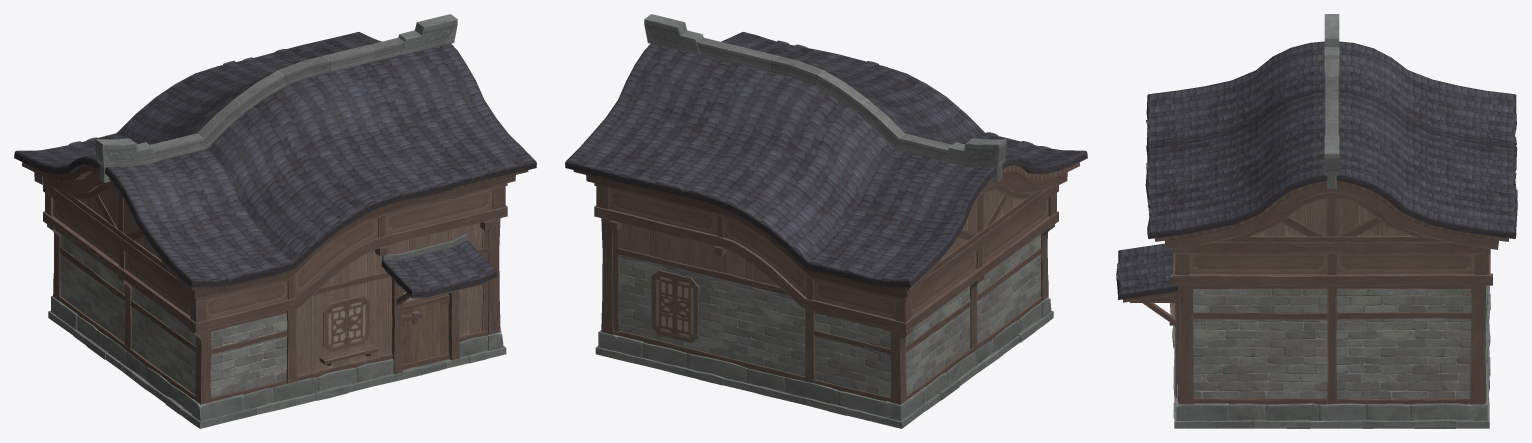
Rendered from Homeworld_Exterior_Cyg_Build_YlbHuishi_05_Lod0.fbx.
3 views of the same model, side by side, from view 1: azimuth 30°, elevation 25°; view 2: azimuth 150°, elevation 25°; view 3: azimuth 270°, elevation 25° (orthographic). The views are drawn at different scales.
Visible parts, largest first — view 1: Area_Cyg_Build_QYZ_Comp_Huishi_E_01_Lod0; view 2: Area_Cyg_Build_QYZ_Comp_Huishi_E_01_Lod0; view 3: Area_Cyg_Build_QYZ_Comp_Huishi_E_01_Lod0.
Boxes of the visible parts, x1,y1,x2,y2 form: Area_Cyg_Build_QYZ_Comp_Huishi_E_01_Lod0: (14,14,536,428); Area_Cyg_Build_QYZ_Comp_Huishi_E_01_Lod0: (565,14,1087,428); Area_Cyg_Build_QYZ_Comp_Huishi_E_01_Lod0: (1116,14,1517,428).
Bounding box in the file's own units: 9.43 × 7.01 × 8.89.
